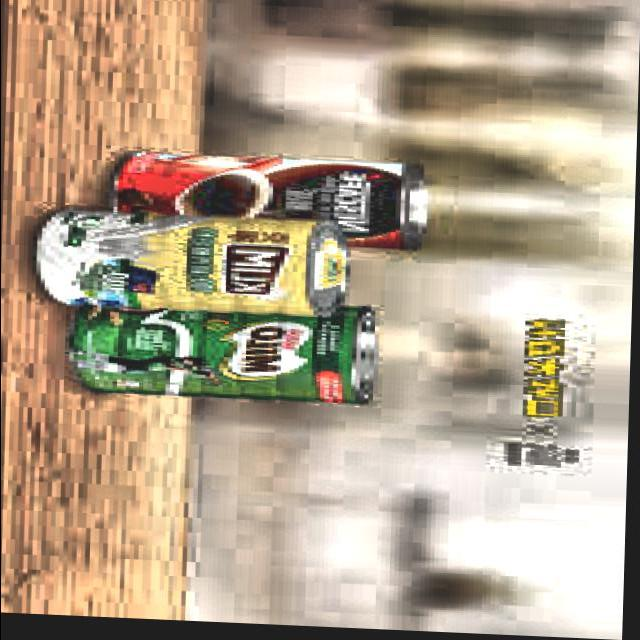litter: (55, 293, 390, 413), (31, 209, 360, 324), (100, 148, 436, 255)
